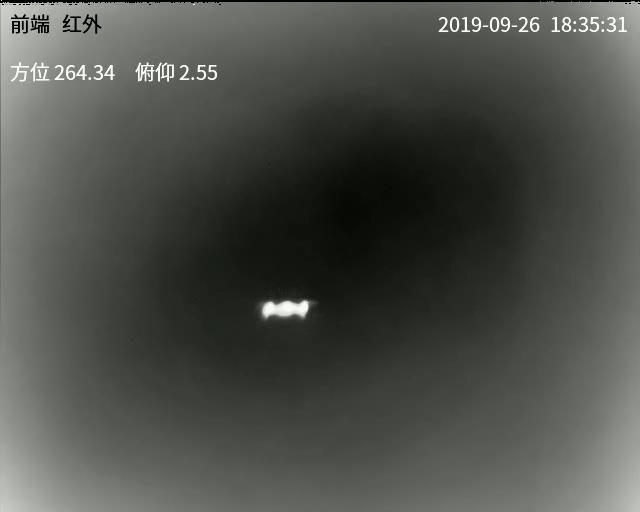uav: (254, 294, 320, 323)
